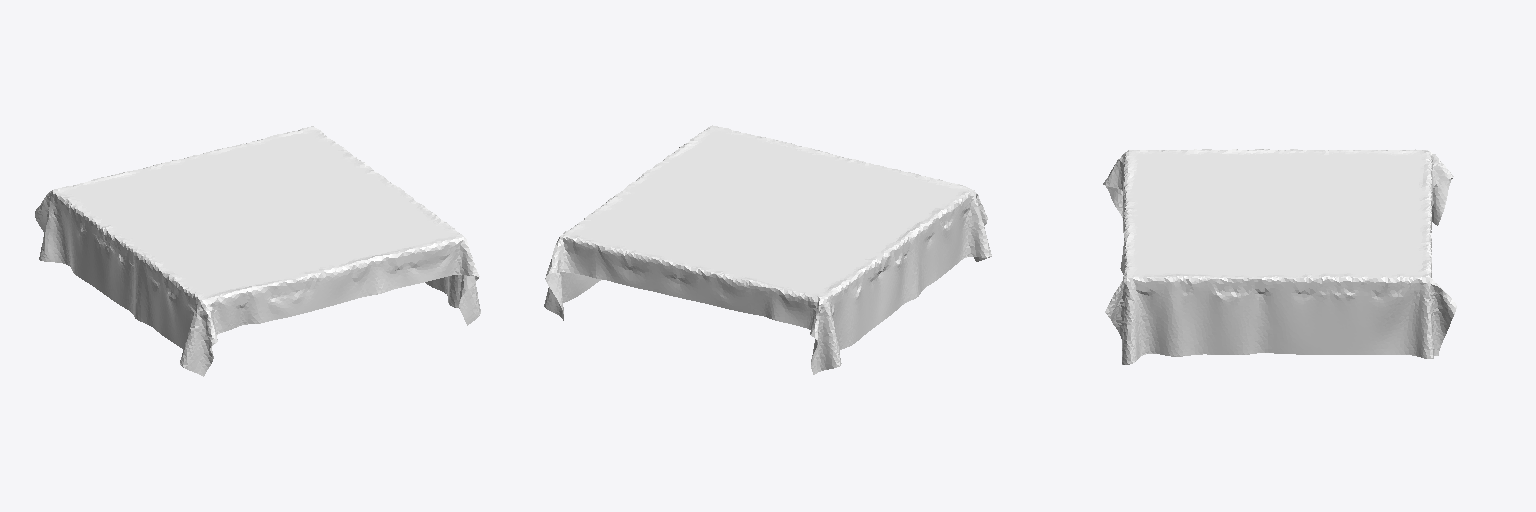
Rendered from tableTop.obj.
3 renders of one model, left to right at view 1: azimuth 30°, elevation 25°; view 2: azimuth 150°, elevation 25°; view 3: azimuth 270°, elevation 25°, orthographic.
Visible parts, largest first — view 1: Cloth_Shap; view 2: Cloth_Shap; view 3: Cloth_Shap.
Part boxes in pixels (x1,y1,x2,y2): Cloth_Shap: (35, 126, 480, 376); Cloth_Shap: (544, 125, 991, 374); Cloth_Shap: (1103, 149, 1456, 364).
Bounding box in the file's own units: 7.26 × 2.04 × 7.45.